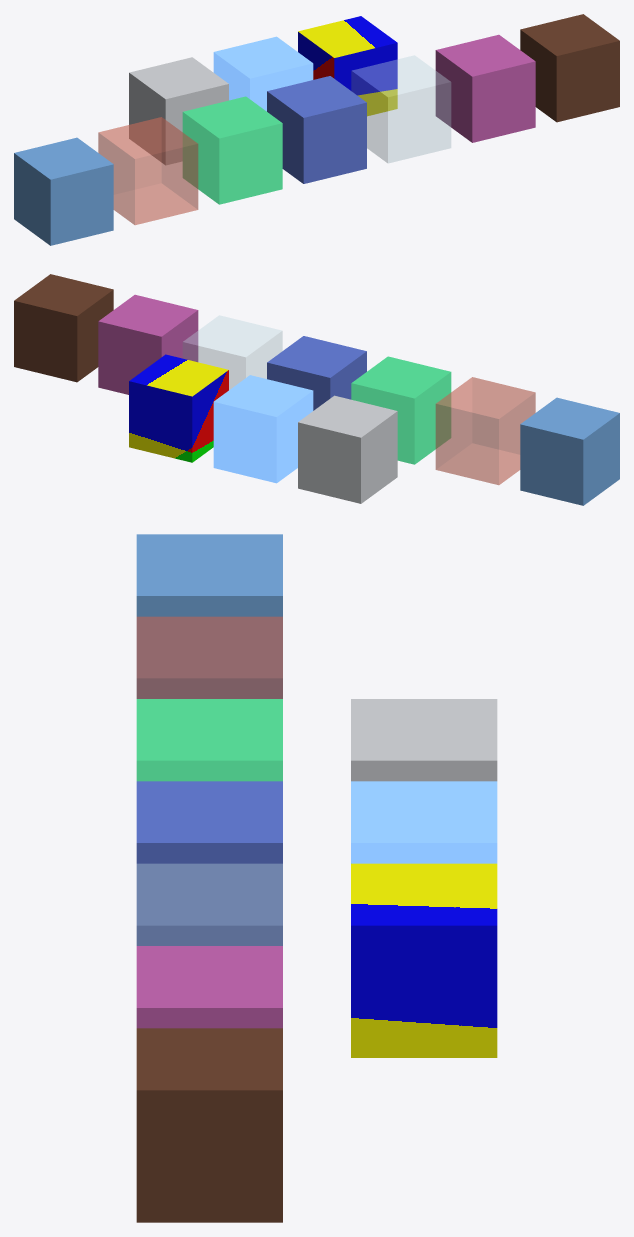
Rendered from portableFactors.glb.
3 views of the same model, one above another, from view 1: azimuth 30°, elevation 25°; view 2: azimuth 150°, elevation 25°; view 3: azimuth 270°, elevation 25° (orthographic). The views are drawn at different scales.
Parts seen in each view (by area): view 1: Specular, Unlit, CorePrincipled, AlphaBlend, Clearcoat, SheenFullWeight, TransmissionVolume, Anisotropy, TextureTransform, EmissiveStrength; view 2: CorePrincipled, Anisotropy, AlphaBlend, EmissiveStrength, TextureTransform, SheenFullWeight, Specular, Unlit, Clearcoat, TransmissionVolume; view 3: SheenFullWeight, TextureTransform, Clearcoat, CorePrincipled, EmissiveStrength, AlphaBlend, Anisotropy, Specular, Unlit, TransmissionVolume.
Part boxes in pixels (x1,y1,x2,y2): Specular: (435,34,535,142); Unlit: (182,96,282,204); CorePrincipled: (14,137,113,245); AlphaBlend: (98,117,198,224); Clearcoat: (267,76,366,183); SheenFullWeight: (520,14,619,122); TransmissionVolume: (351,55,450,163); Anisotropy: (129,57,228,165); TextureTransform: (298,16,397,116); EmissiveStrength: (213,36,313,111); CorePrincipled: (520,397,619,505); Anisotropy: (298,395,397,503); AlphaBlend: (435,377,535,484); EmissiveStrength: (213,375,313,483); TextureTransform: (129,354,228,462); SheenFullWeight: (14,274,113,382); Specular: (98,294,198,394); Unlit: (351,356,451,464); Clearcoat: (267,336,366,410); TransmissionVolume: (183,315,282,389); SheenFullWeight: (136,1028,282,1222); TextureTransform: (351,863,497,1057); Clearcoat: (136,781,282,945); CorePrincipled: (136,534,282,698); EmissiveStrength: (351,781,497,863); AlphaBlend: (136,616,282,698); Anisotropy: (351,699,497,781); Specular: (136,946,282,1028); Unlit: (136,699,282,781); TransmissionVolume: (137,864,282,945).
Bounding box in the file's own units: 13.5 × 1.5 × 3.7.
Materials: 10 (1 with a texture image).
